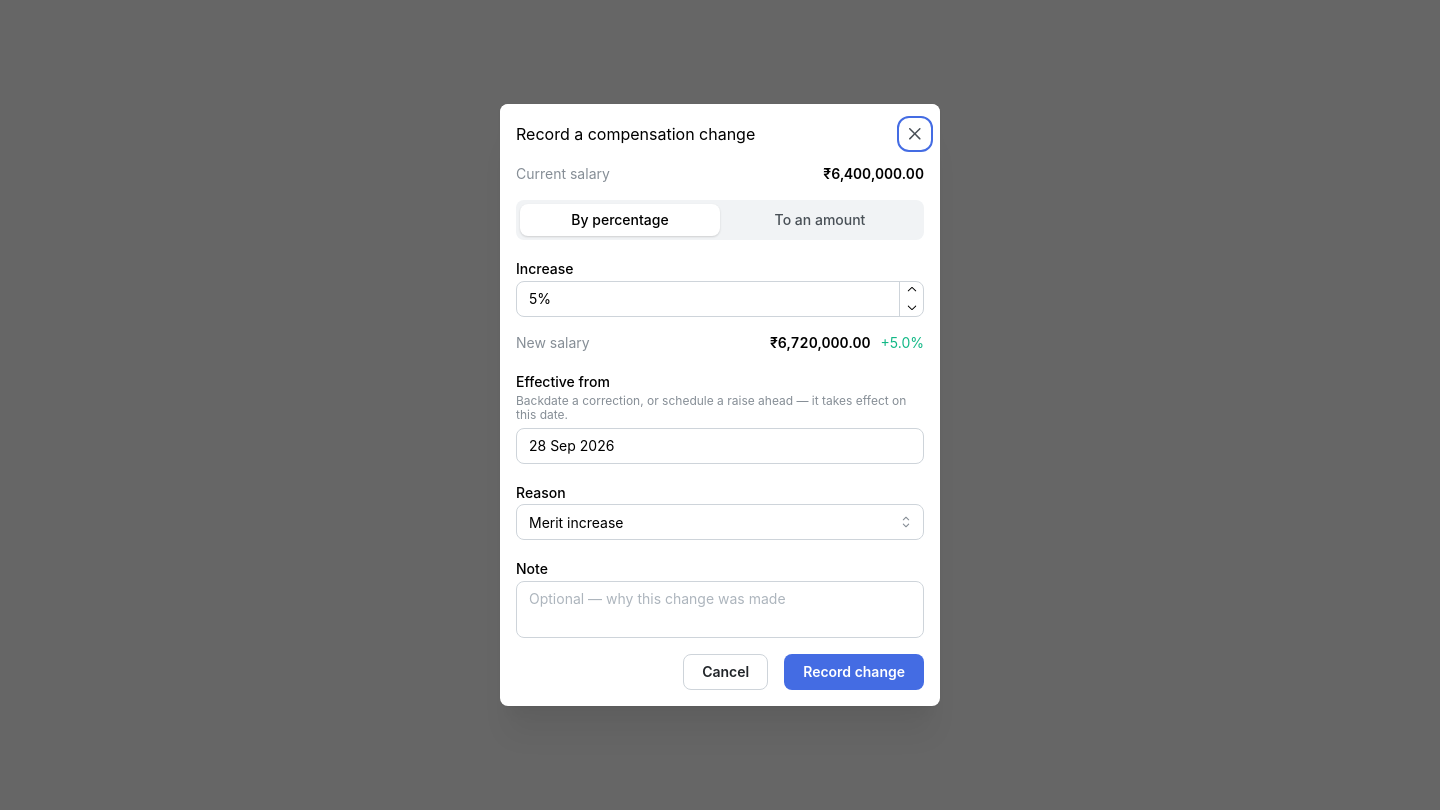
Test: previewing a compensation change › warns before a change pushes someone outside their band, without blocking it
Replace the text in the field with test id "increase-percent" with "30": (720, 299) x1=516 y1=281 x2=924 y2=317
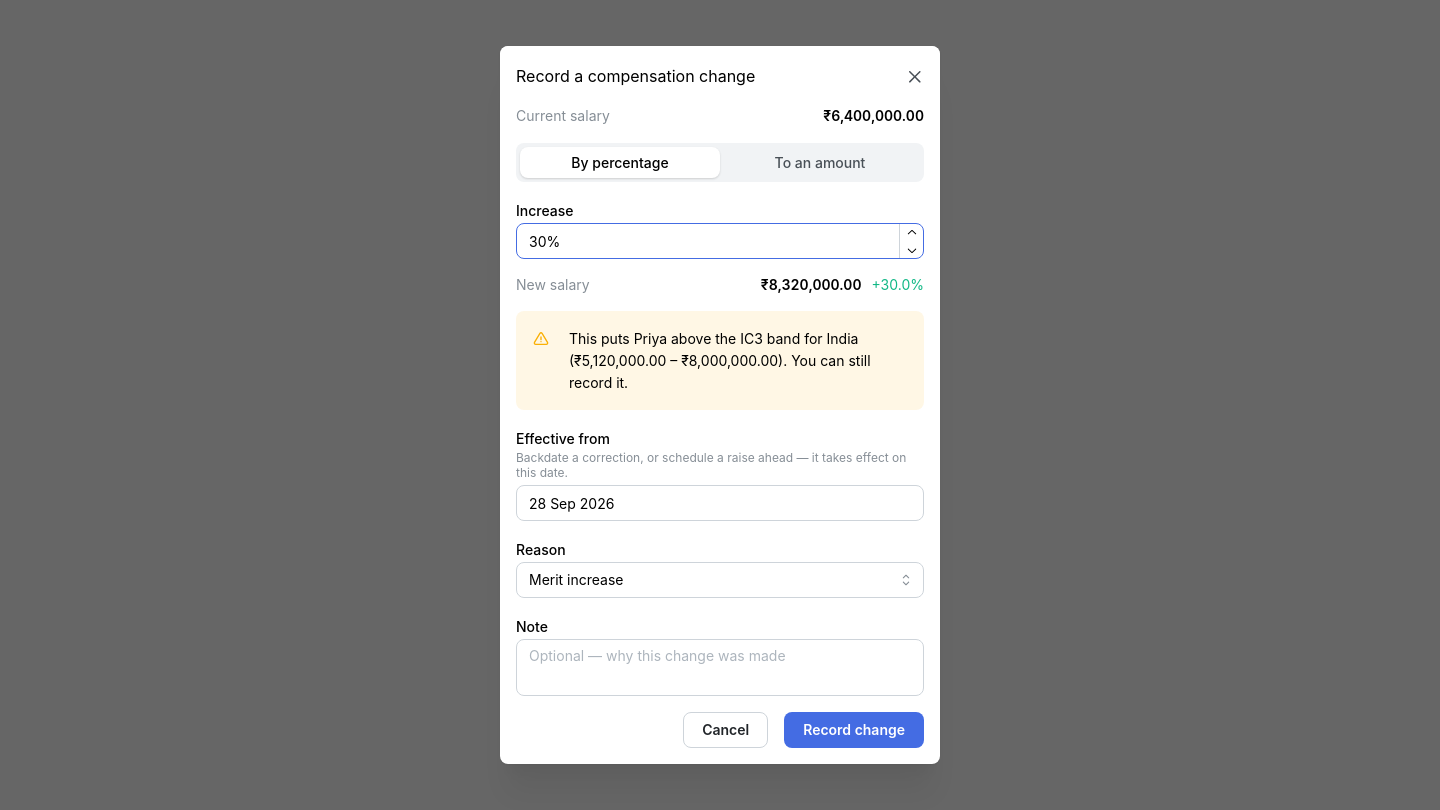
Expected: the text "above the IC3 band" is shown, x1=569 y1=328 x2=907 y2=394
Expected: the button "Record change" is enabled, x1=784 y1=712 x2=924 y2=748
